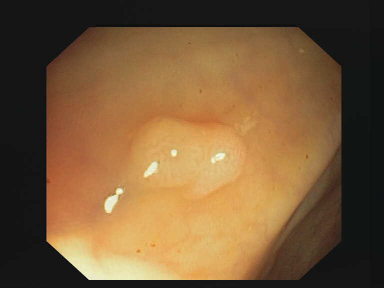polyp: (118, 95, 260, 207)
